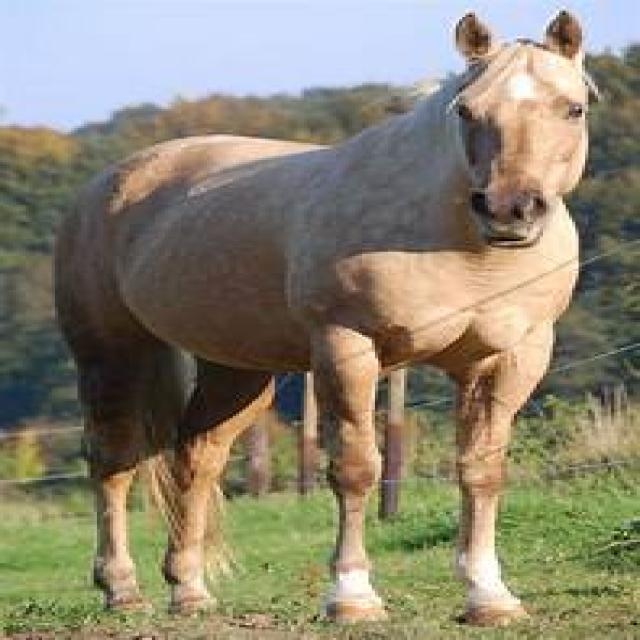horse: (52, 11, 598, 629)
